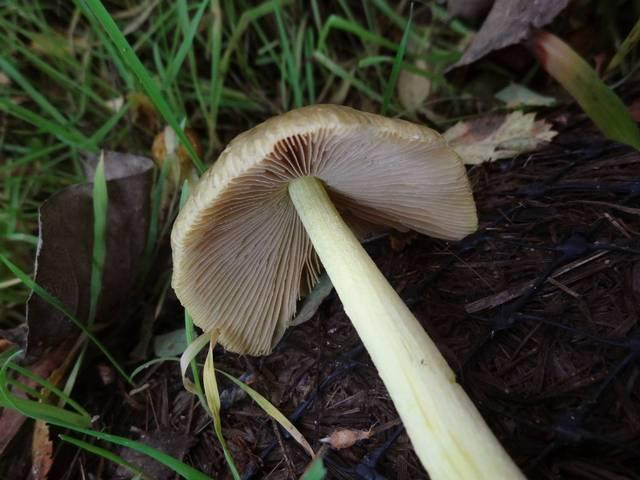Edible Mushroom: (169, 102, 528, 478)
